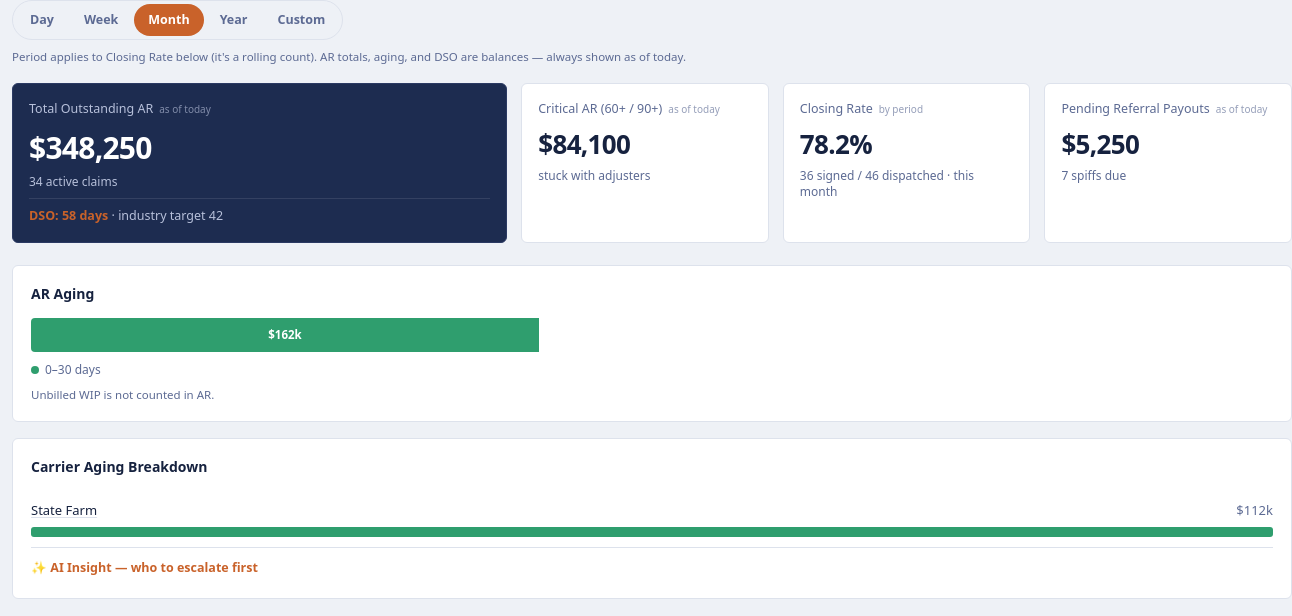
Test: ExecutiveView › switches the closing rate when a different period is selected
What coordinates should you click on to do the following:
click the button "Year"
I would click on:
 (234, 20)
Its box is top-left (206, 4), bottom-right (262, 36).
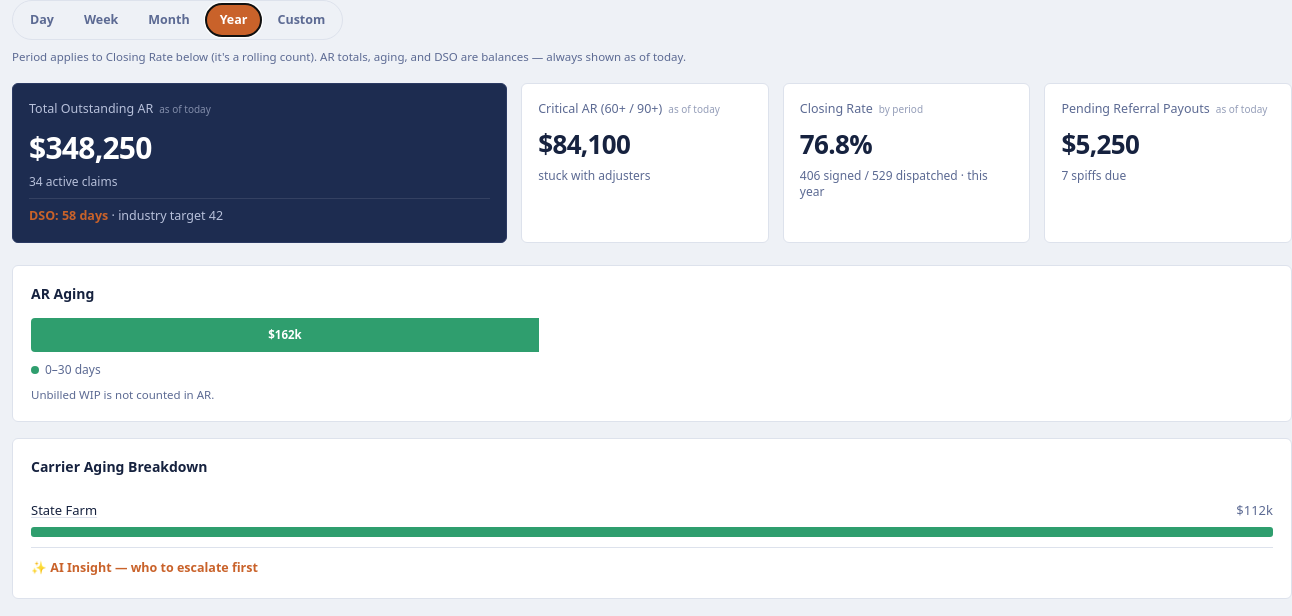
Expected: the text "76.8%" is shown, top-left (800, 126), bottom-right (872, 162)
Expected: the text "406 signed / 529 dispatched · this year" is shown, top-left (800, 168), bottom-right (1013, 200)
